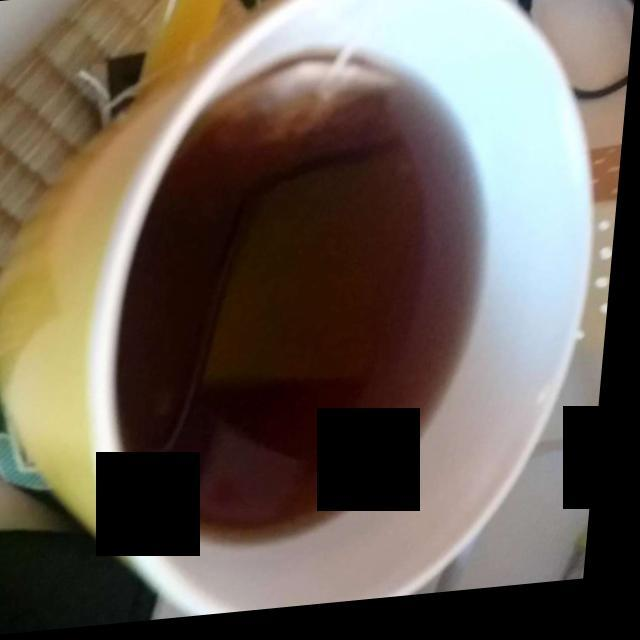tea: (126, 67, 479, 539)
